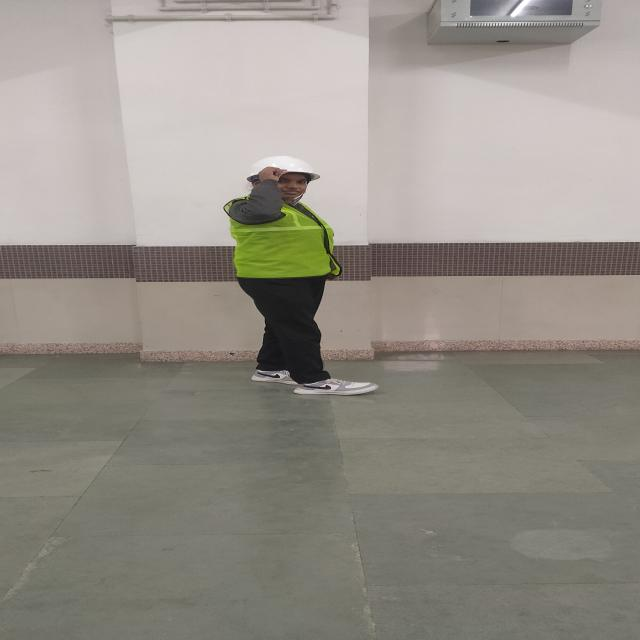safe: (223, 156, 343, 394)
